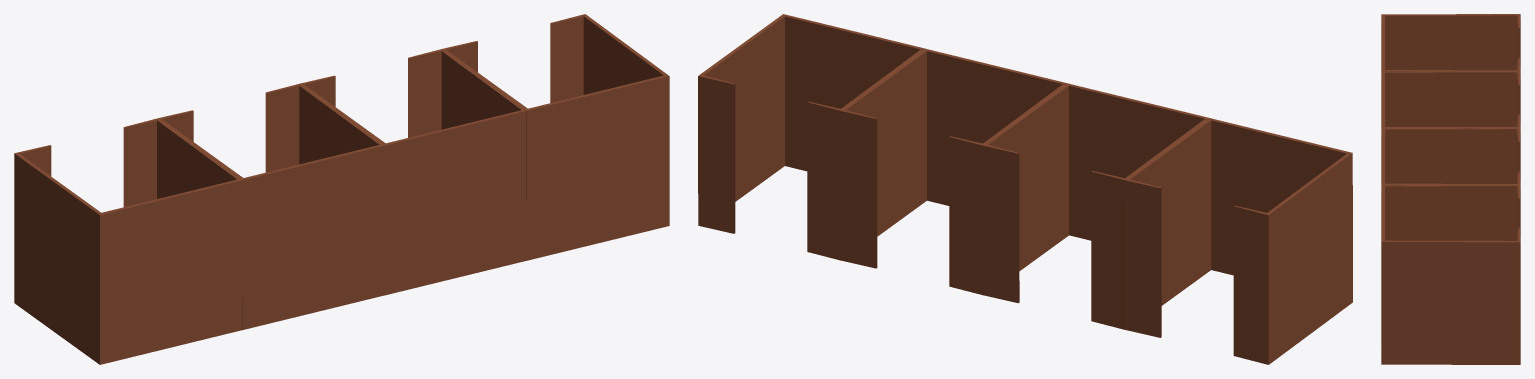
The model's file is changing rooms.fbx.
3 renders of one model, left to right at view 1: azimuth 30°, elevation 25°; view 2: azimuth 150°, elevation 25°; view 3: azimuth 270°, elevation 25°, orthographic. The views are drawn at different scales.
Parts seen in each view (by area): view 1: Cube.001; view 2: Cube.001; view 3: Cube.001.
Boxes of the visible parts, box(x1,y1,x2,y2) form: Cube.001: box(14, 14, 669, 364); Cube.001: box(698, 14, 1352, 364); Cube.001: box(1381, 14, 1520, 364).
Bounding box in the file's own units: 1596 × 400 × 411.
